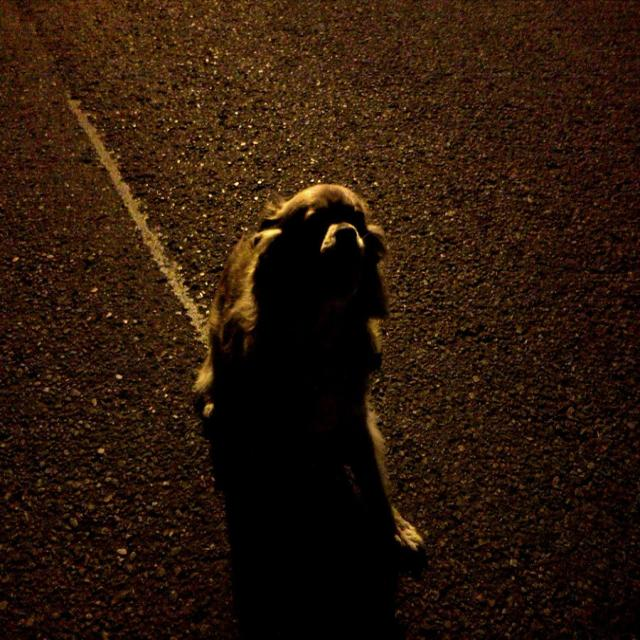Dog: (146, 154, 484, 576)
